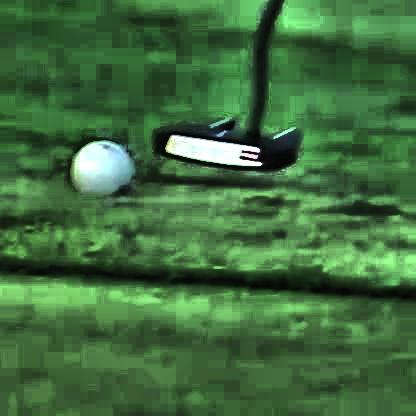golfball: (67, 140, 130, 197)
